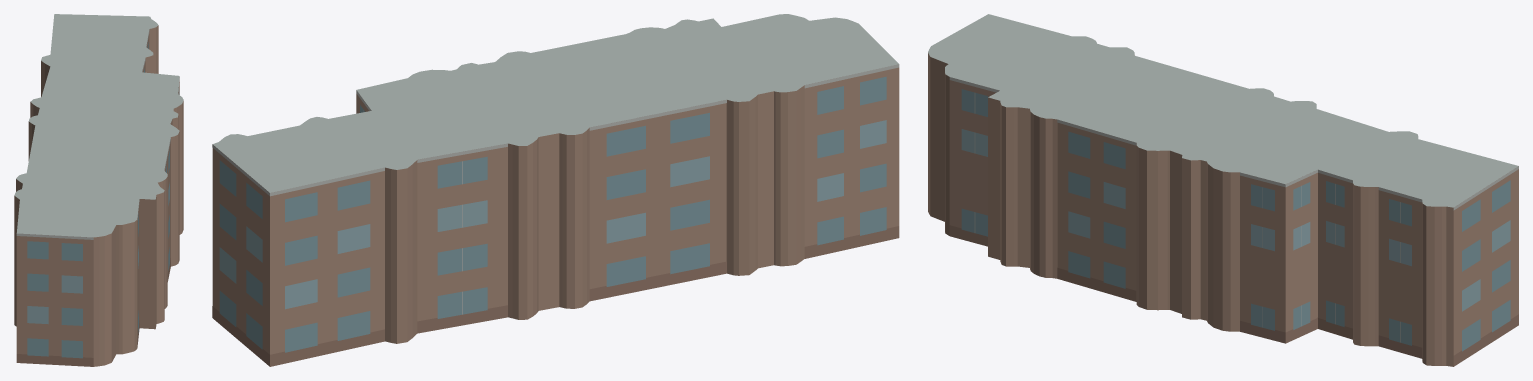
Rendered from survey-upis-32906758.glb.
3 views of the same model, side by side, from view 1: azimuth 30°, elevation 25°; view 2: azimuth 150°, elevation 25°; view 3: azimuth 270°, elevation 25° (orthographic). The views are drawn at different scales.
Visible parts, largest first — view 1: survey-upis-32906758.tmp; view 2: survey-upis-32906758.tmp; view 3: survey-upis-32906758.tmp.
Boxes of the visible parts, x1=… form: survey-upis-32906758.tmp: x1=14, y1=14, x2=183, y2=366; survey-upis-32906758.tmp: x1=212, y1=14, x2=899, y2=366; survey-upis-32906758.tmp: x1=928, y1=14, x2=1518, y2=366.
Size of the model in its own units: 33.11 by 12.7 by 42.69.
